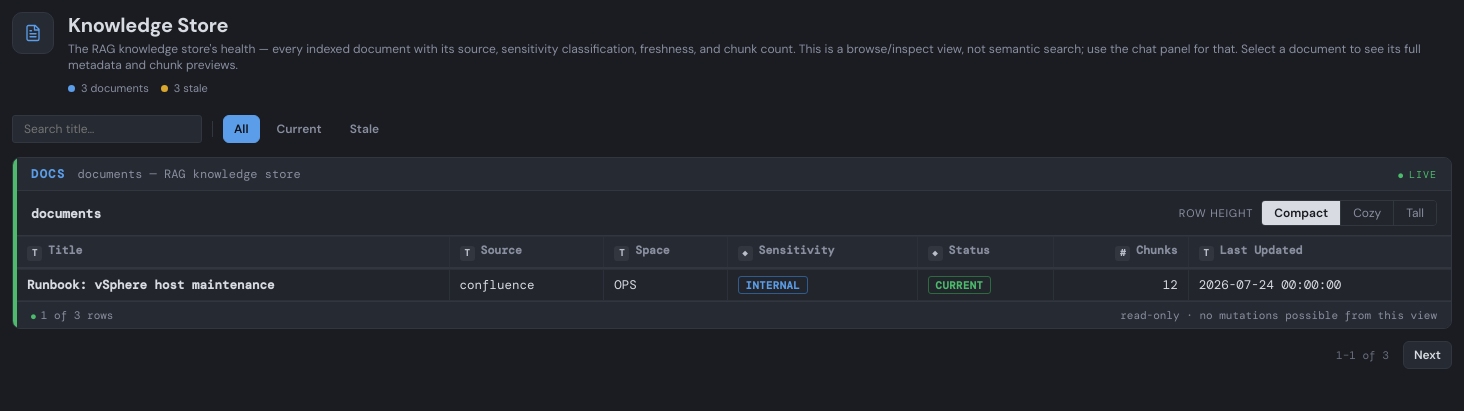
it: Documents page — Phase 3 design-system rebuild › shows a filter-zero empty state (not a false 'none yet' message) when a search matches nothing
Check: the text "Runbook: vSphere host maintenance" is shown, box [27,277,274,293]
Type "zzz" into the field with placeholder "Search title…".
click(107, 129); type("zzz")  # box [12,115,202,143]
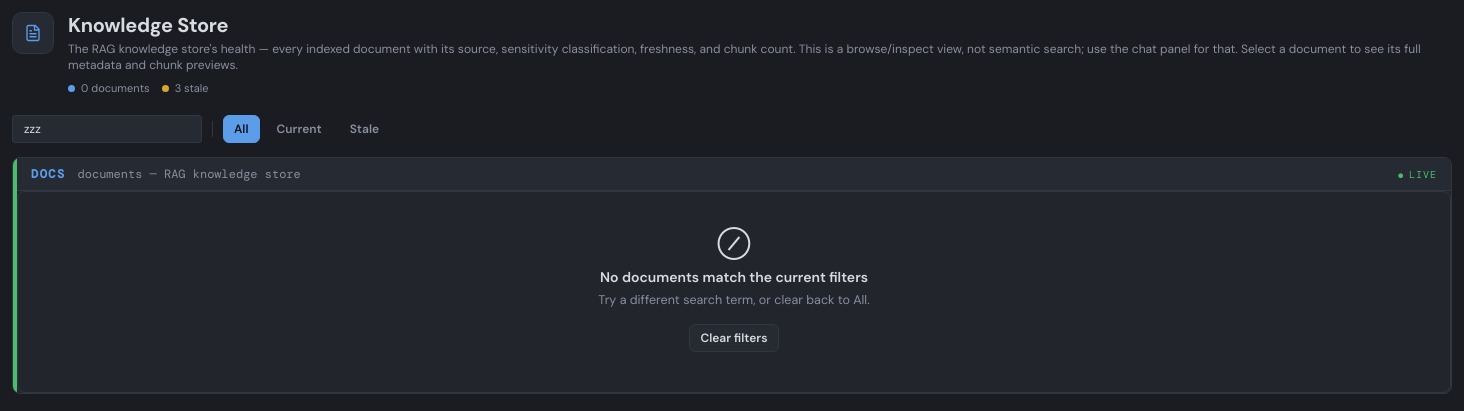
Check: the text "No documents match the current filters" is shown, box [600,268,868,286]
